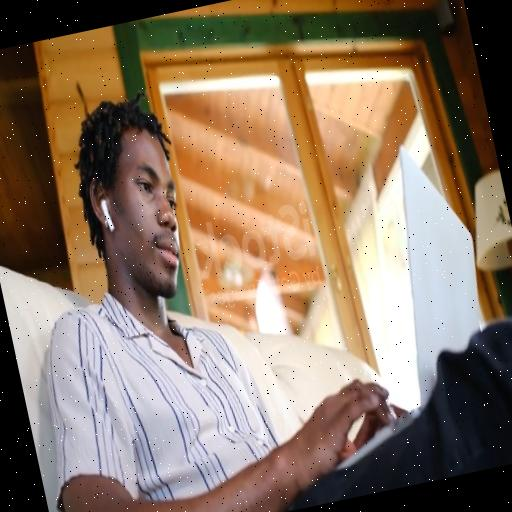earphone: (98, 197, 116, 234)
